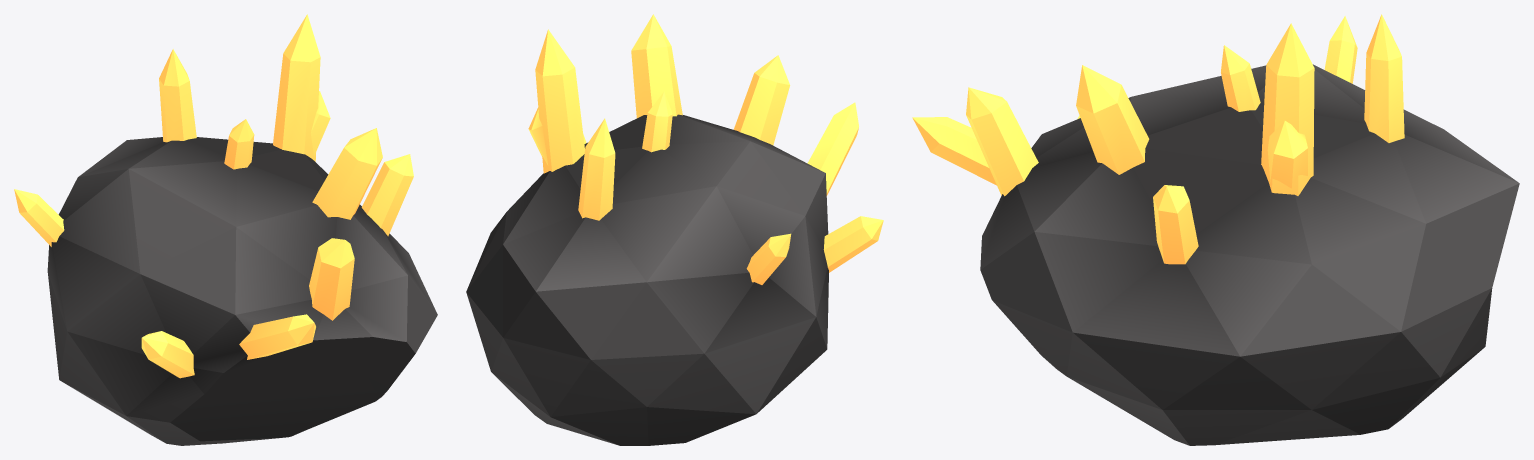
Rendered from obj_cristal_grande.glb.
3 renders of one model, left to right at view 1: azimuth 30°, elevation 25°; view 2: azimuth 150°, elevation 25°; view 3: azimuth 270°, elevation 25°, orthographic. The views are drawn at different scales.
Parts seen in each view (by area): view 1: propforge-libre-cristal_grande; view 2: propforge-libre-cristal_grande; view 3: propforge-libre-cristal_grande.
Boxes of the visible parts, left/top/right/bottom form: propforge-libre-cristal_grande: left=14, top=14, right=437, bottom=445; propforge-libre-cristal_grande: left=466, top=14, right=883, bottom=445; propforge-libre-cristal_grande: left=912, top=14, right=1519, bottom=445.
Bounding box in the file's own units: 1.34 × 1.3 × 1.7.
